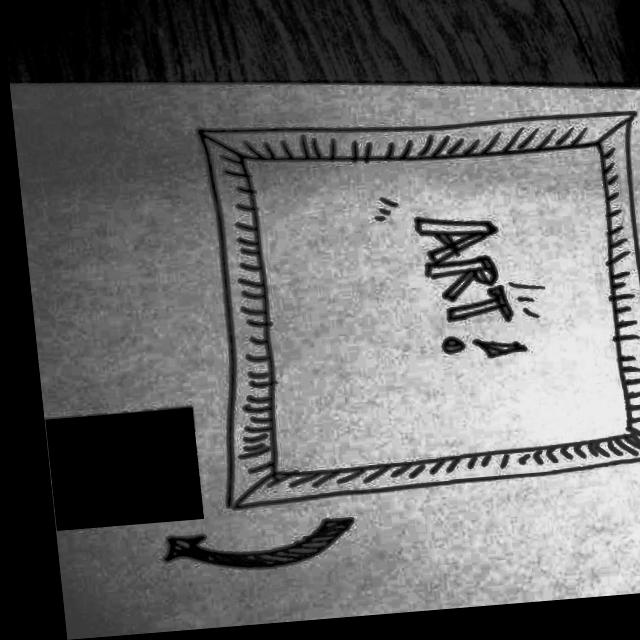qr_code: (35, 411, 191, 531)
